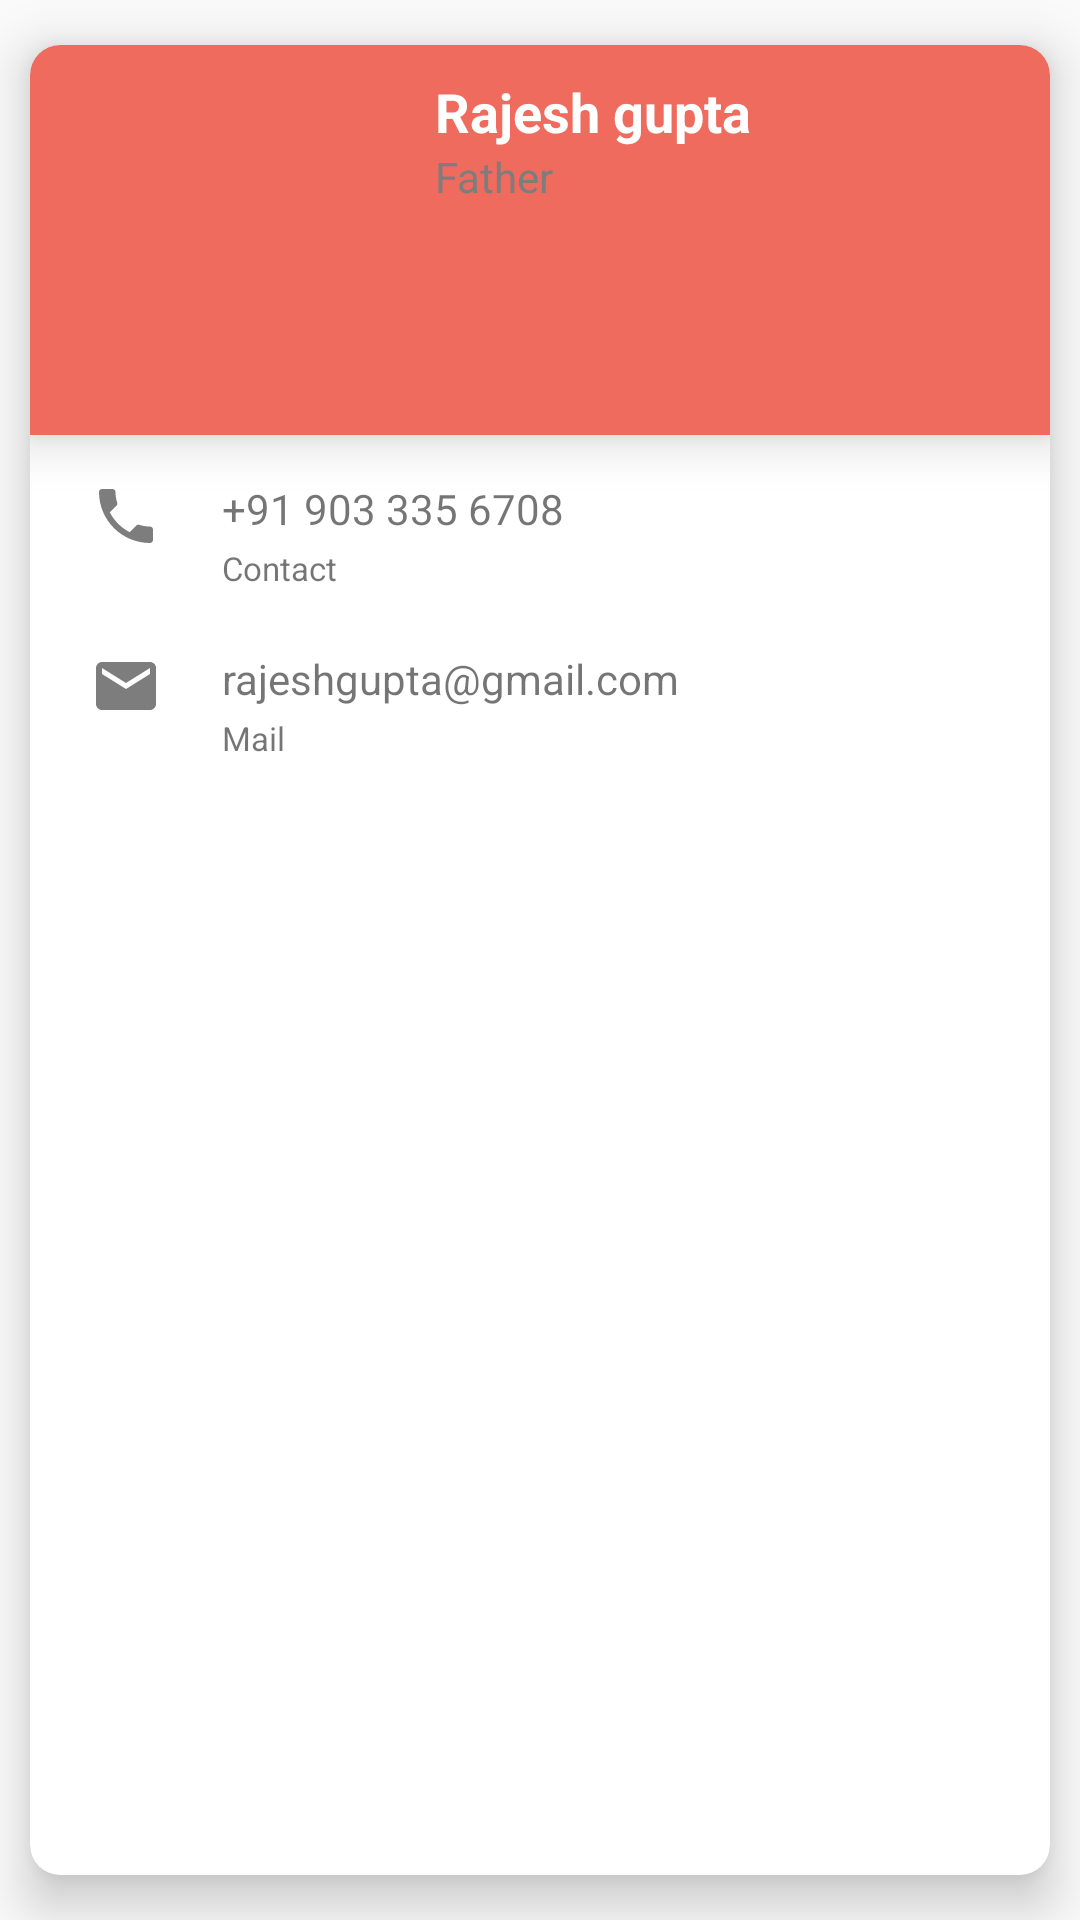

Icon click points for this 1080px x 1920px phone screenshot, format (x,y):
local phone: (126,516)
